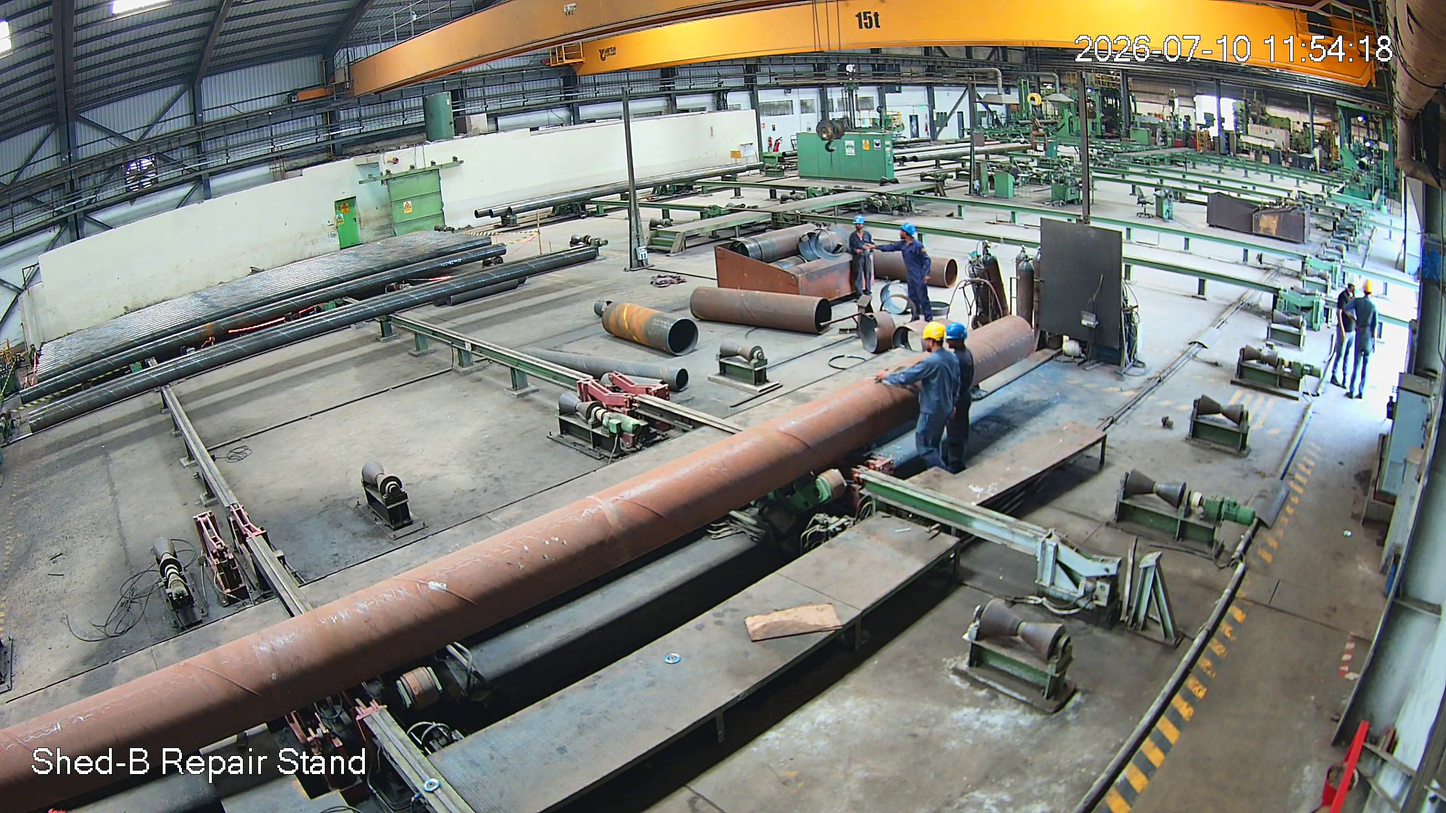Helmet: (919, 319, 949, 358), (945, 312, 970, 353), (898, 217, 919, 249), (1337, 270, 1361, 297), (849, 212, 868, 235)
Person: (911, 322, 950, 462), (947, 311, 979, 461), (890, 222, 935, 322), (1339, 267, 1366, 398), (847, 215, 877, 301)
